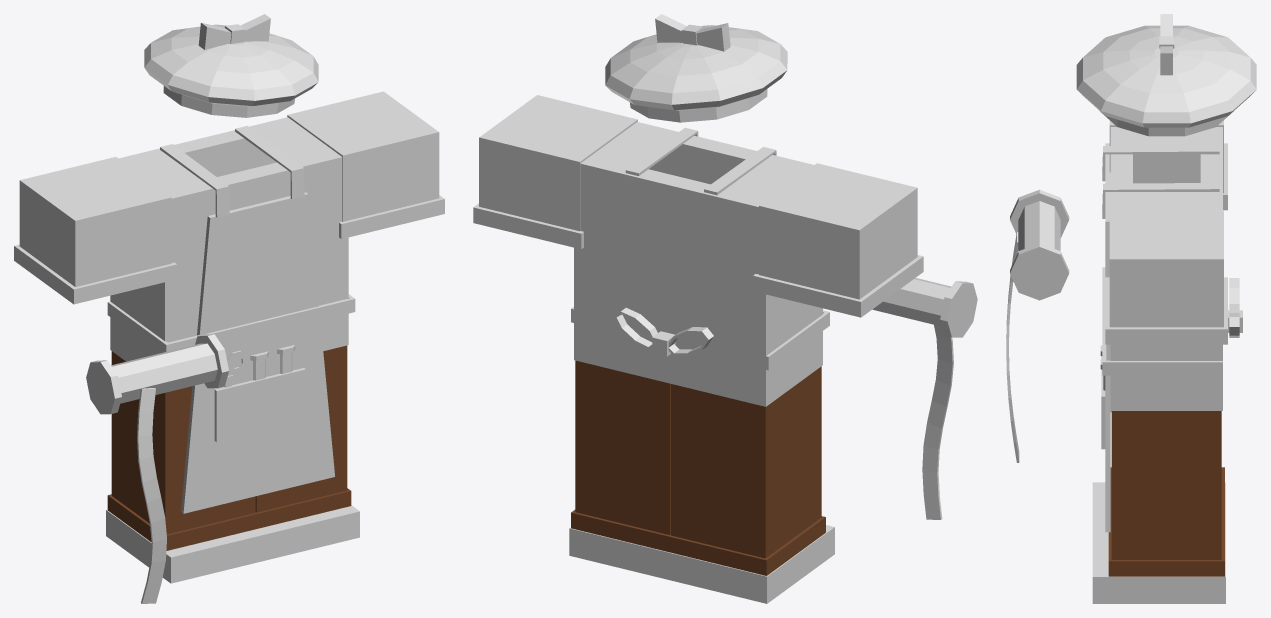
The model's file is w1_keeper_wrapper.fbx.
3 views of the same model, side by side, from view 1: azimuth 30°, elevation 25°; view 2: azimuth 150°, elevation 25°; view 3: azimuth 270°, elevation 25° (orthographic). The views are drawn at different scales.
Visible parts, largest first — view 1: WrapperGear.Apron, WrapperGear.Shirt, WrapperGear.SleeveR, WrapperGear.Pants, WrapperGear.SleeveL, WrapperGear.Beret, WrapperGear.ApronTrim, WrapperGear.Shoes, WrapperGear.RibbonRoll, WrapperGear.Spool, WrapperGear.BeretBow, WrapperGear.Gold; view 2: WrapperGear.Shirt, WrapperGear.Pants, WrapperGear.SleeveR, WrapperGear.SleeveL, WrapperGear.Beret, WrapperGear.Shoes, WrapperGear.ApronTrim, WrapperGear.RibbonRoll, WrapperGear.BeretBow, WrapperGear.Spool; view 3: WrapperGear.Pants, WrapperGear.SleeveL, WrapperGear.Beret, WrapperGear.Shirt, WrapperGear.ApronTrim, WrapperGear.Shoes, WrapperGear.Spool, WrapperGear.RibbonRoll, WrapperGear.SleeveR, WrapperGear.Apron, WrapperGear.BeretBow.
Boxes of the visible parts, x1=… form: WrapperGear.Apron: x1=181, y1=192, x2=334, y2=513; WrapperGear.Shirt: x1=110, y1=117, x2=348, y2=361; WrapperGear.SleeveR: x1=14, y1=157, x2=177, y2=304; WrapperGear.Pants: x1=107, y1=345, x2=351, y2=550; WrapperGear.SleeveL: x1=287, y1=91, x2=444, y2=238; WrapperGear.Beret: x1=144, y1=24, x2=318, y2=117; WrapperGear.ApronTrim: x1=107, y1=125, x2=355, y2=442; WrapperGear.Shoes: x1=106, y1=505, x2=359, y2=583; WrapperGear.RibbonRoll: x1=111, y1=343, x2=217, y2=603; WrapperGear.Spool: x1=86, y1=334, x2=228, y2=414; WrapperGear.BeretBow: x1=198, y1=14, x2=270, y2=49; WrapperGear.Gold: x1=227, y1=345, x2=295, y2=375; WrapperGear.Shirt: x1=574, y1=122, x2=822, y2=406; WrapperGear.Pants: x1=571, y1=360, x2=825, y2=575; WrapperGear.SleeveR: x1=753, y1=163, x2=923, y2=317; WrapperGear.SleeveL: x1=473, y1=95, x2=637, y2=249; WrapperGear.Beret: x1=605, y1=25, x2=787, y2=122; WrapperGear.Shoes: x1=569, y1=525, x2=834, y2=603; WrapperGear.ApronTrim: x1=571, y1=127, x2=829, y2=370; WrapperGear.RibbonRoll: x1=872, y1=278, x2=953, y2=519; WrapperGear.BeretBow: x1=655, y1=14, x2=730, y2=51; WrapperGear.Spool: x1=940, y1=281, x2=977, y2=337; WrapperGear.Pants: x1=1108, y1=411, x2=1224, y2=576; WrapperGear.SleeveL: x1=1105, y1=211, x2=1227, y2=344; WrapperGear.Beret: x1=1076, y1=25, x2=1256, y2=136; WrapperGear.Shirt: x1=1110, y1=127, x2=1222, y2=410; WrapperGear.ApronTrim: x1=1101, y1=145, x2=1242, y2=449; WrapperGear.Shoes: x1=1092, y1=482, x2=1225, y2=603; WrapperGear.Spool: x1=1010, y1=189, x2=1069, y2=300; WrapperGear.RibbonRoll: x1=1006, y1=201, x2=1060, y2=462; WrapperGear.SleeveR: x1=1105, y1=120, x2=1227, y2=210; WrapperGear.Apron: x1=1105, y1=172, x2=1110, y2=532; WrapperGear.BeretBow: x1=1159, y1=14, x2=1174, y2=75.
Size of the model in its own units: 4.22 by 5.52 by 2.37.
